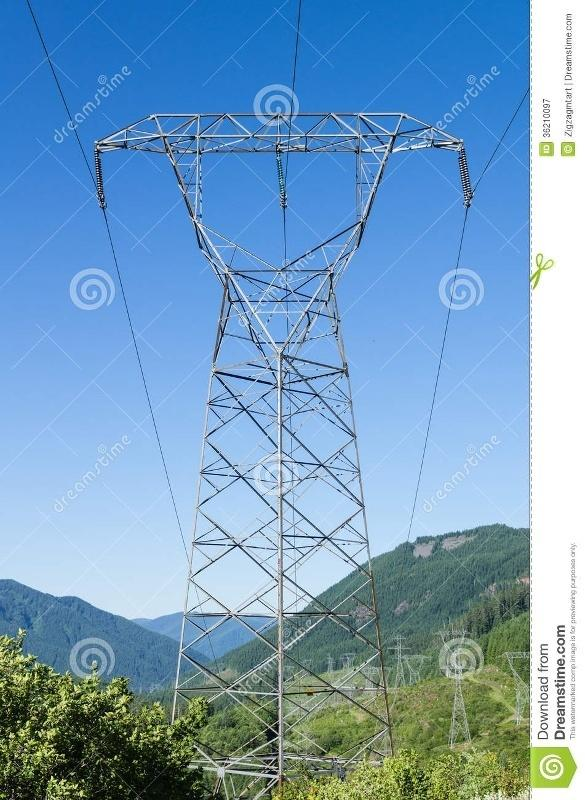power_tower: (66, 67, 436, 701)
